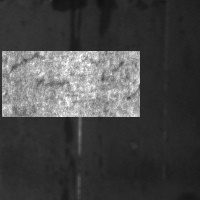crazing: (2, 51, 140, 117)
inclusion: (95, 1, 114, 41)
scratches: (71, 55, 87, 200)
